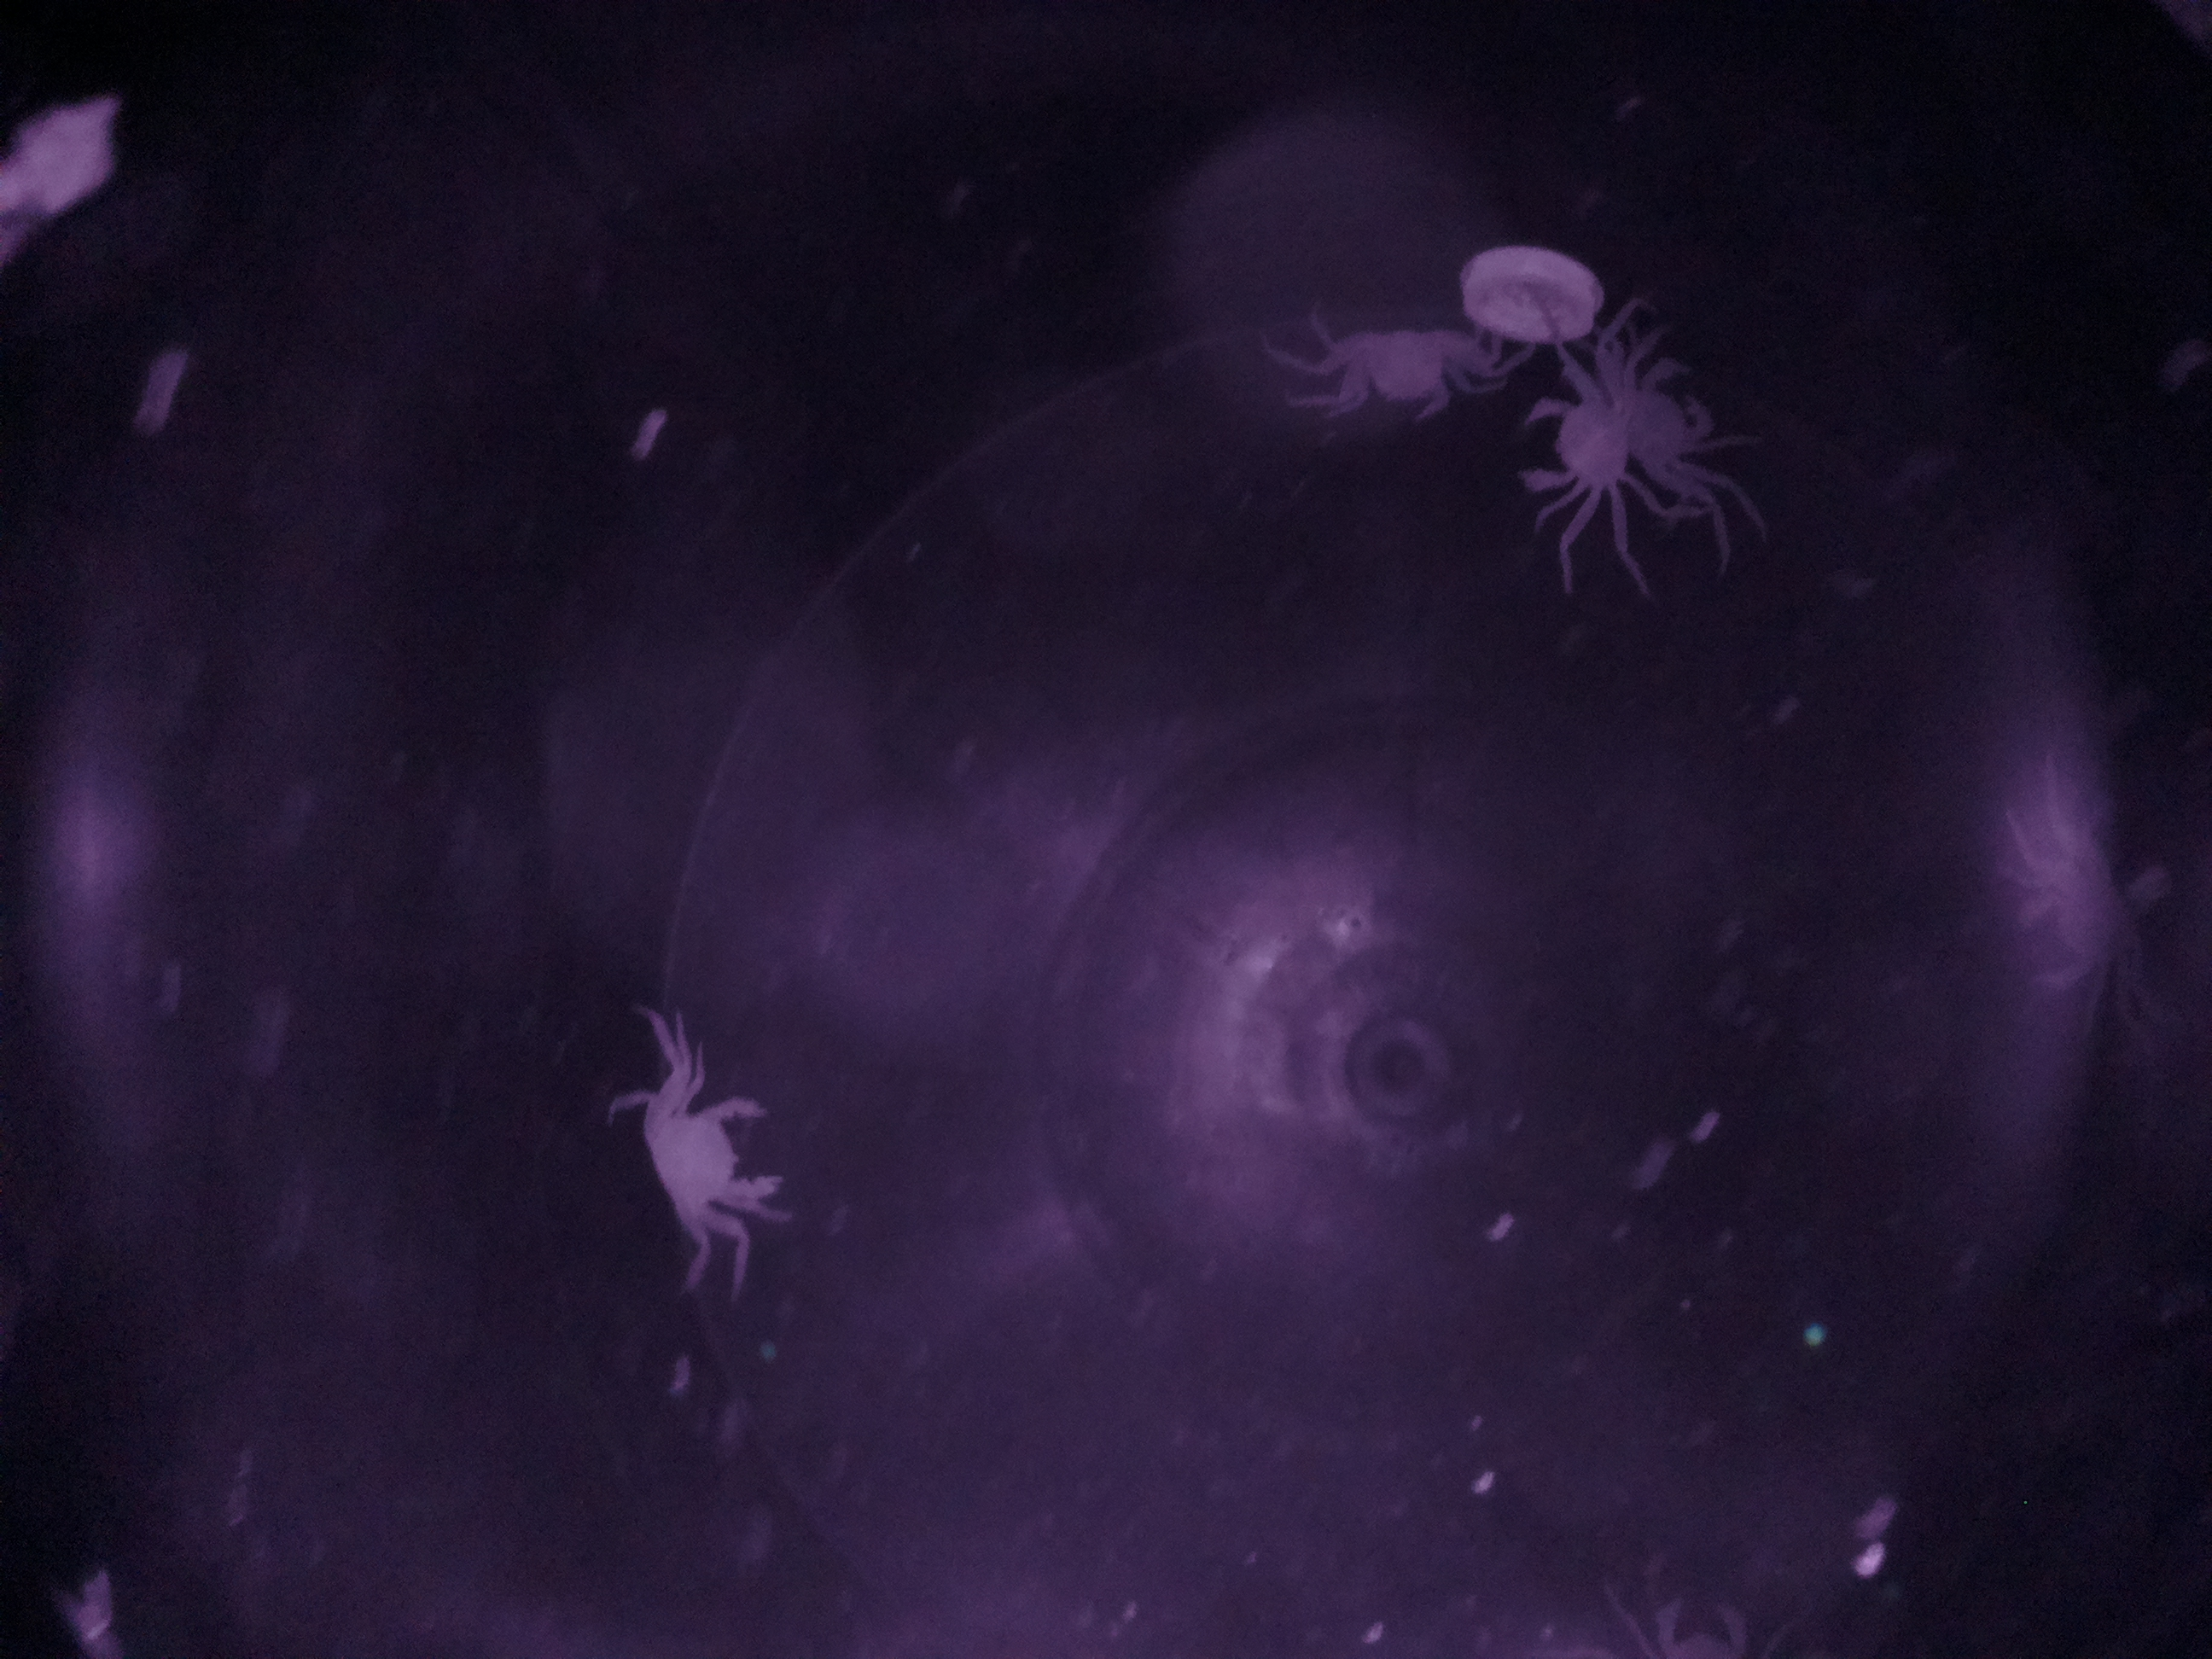Crab: (631, 1070, 789, 1276), (1500, 352, 1656, 525), (1305, 312, 1479, 436)
